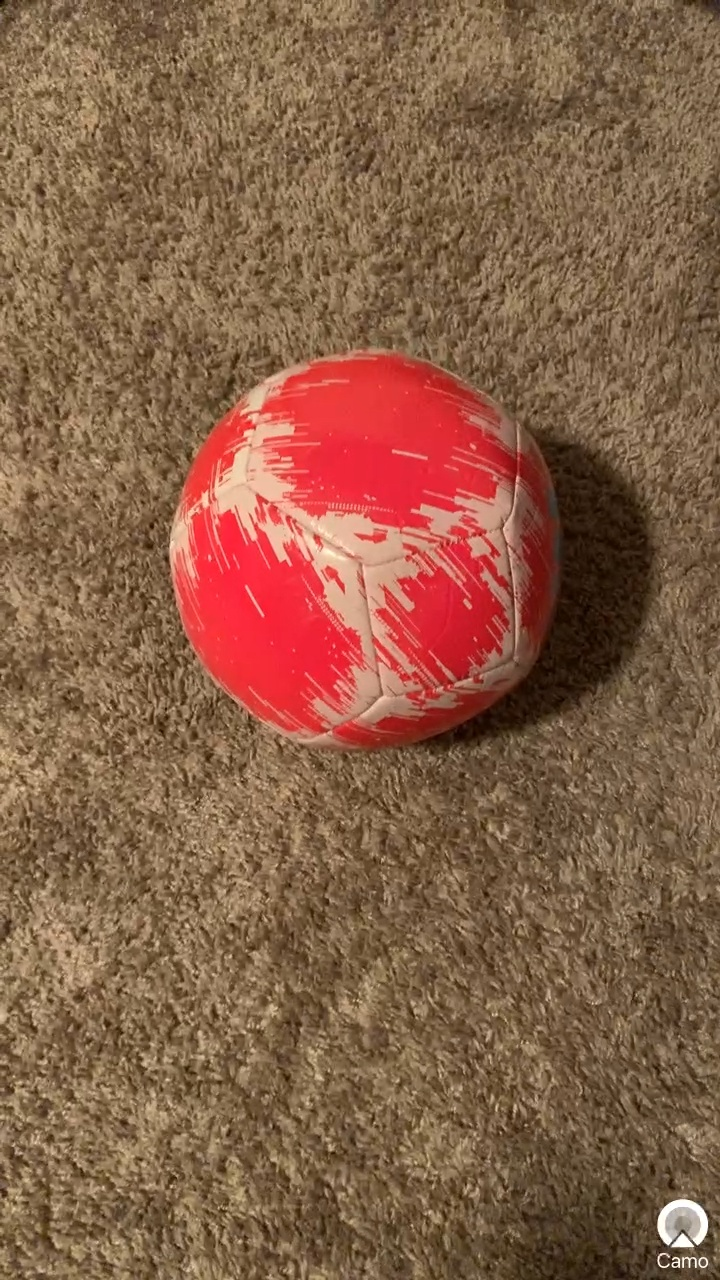Soccer_Ball: (166, 333, 578, 794)
